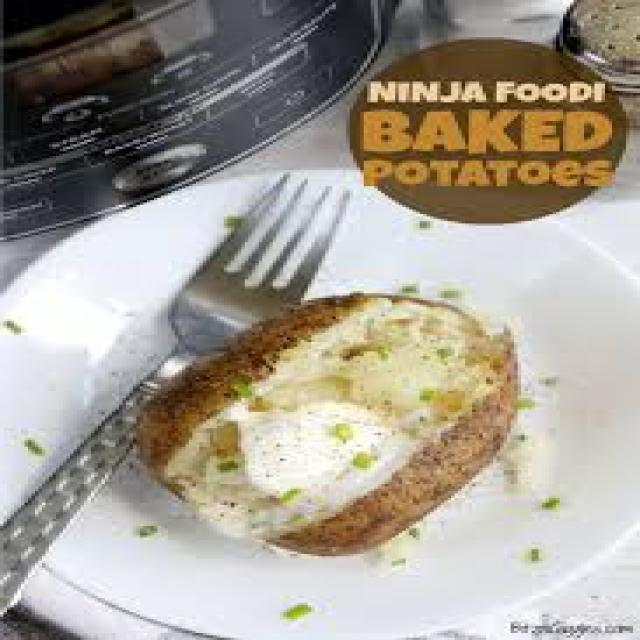Baked Potato: (132, 313, 577, 534)
